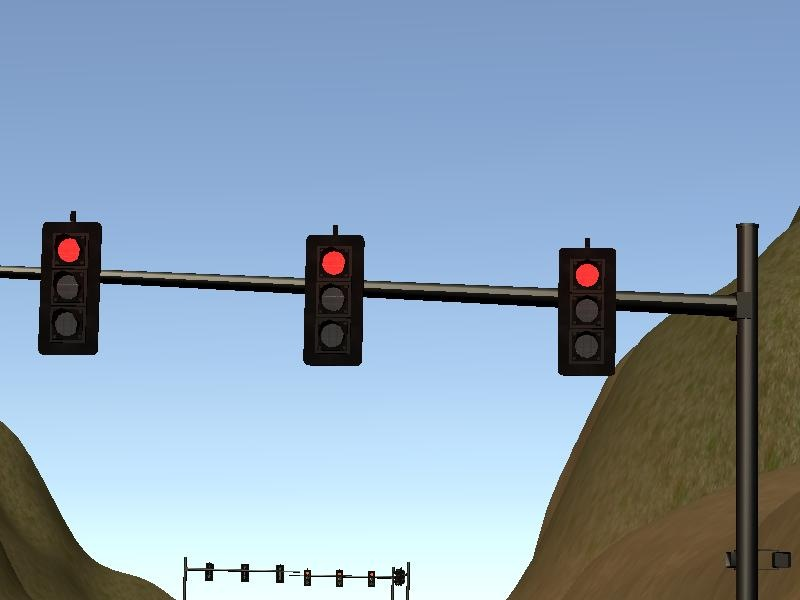RED: (35, 221, 102, 354), (300, 234, 367, 367), (554, 245, 618, 378)
